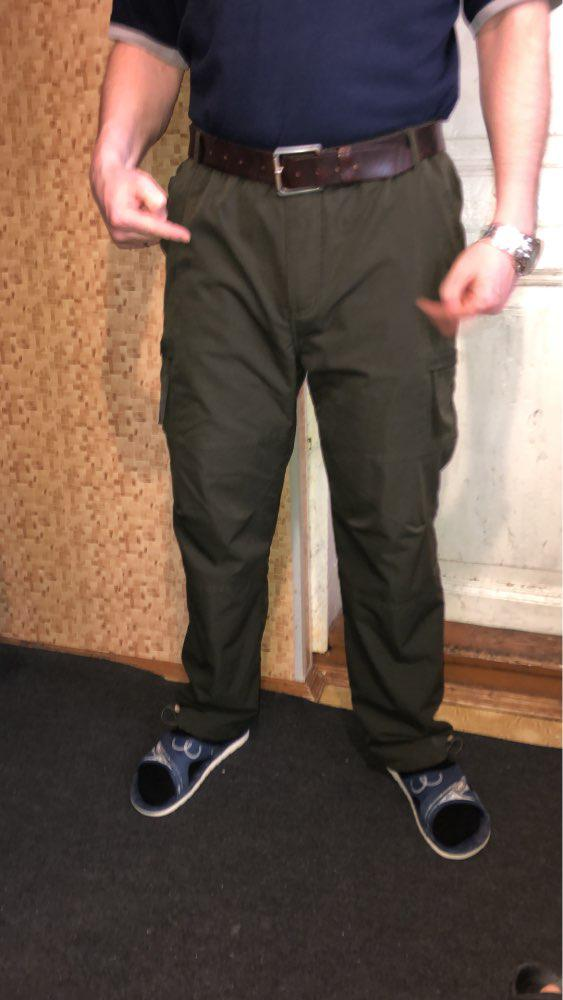pants: (141, 128, 460, 754)
